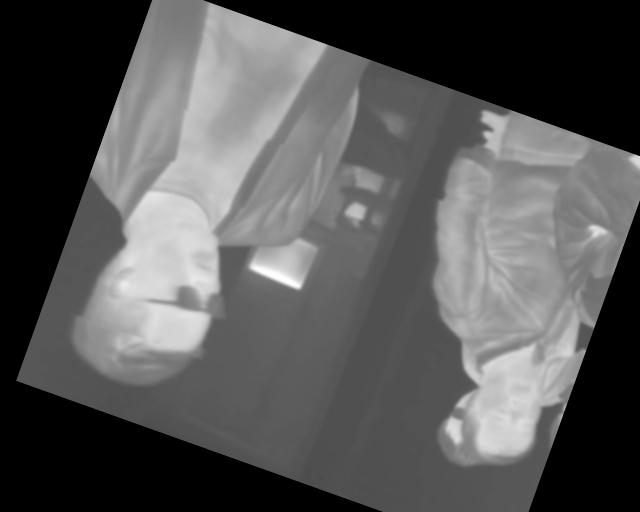face: (55, 198, 245, 409), (450, 350, 558, 477)
